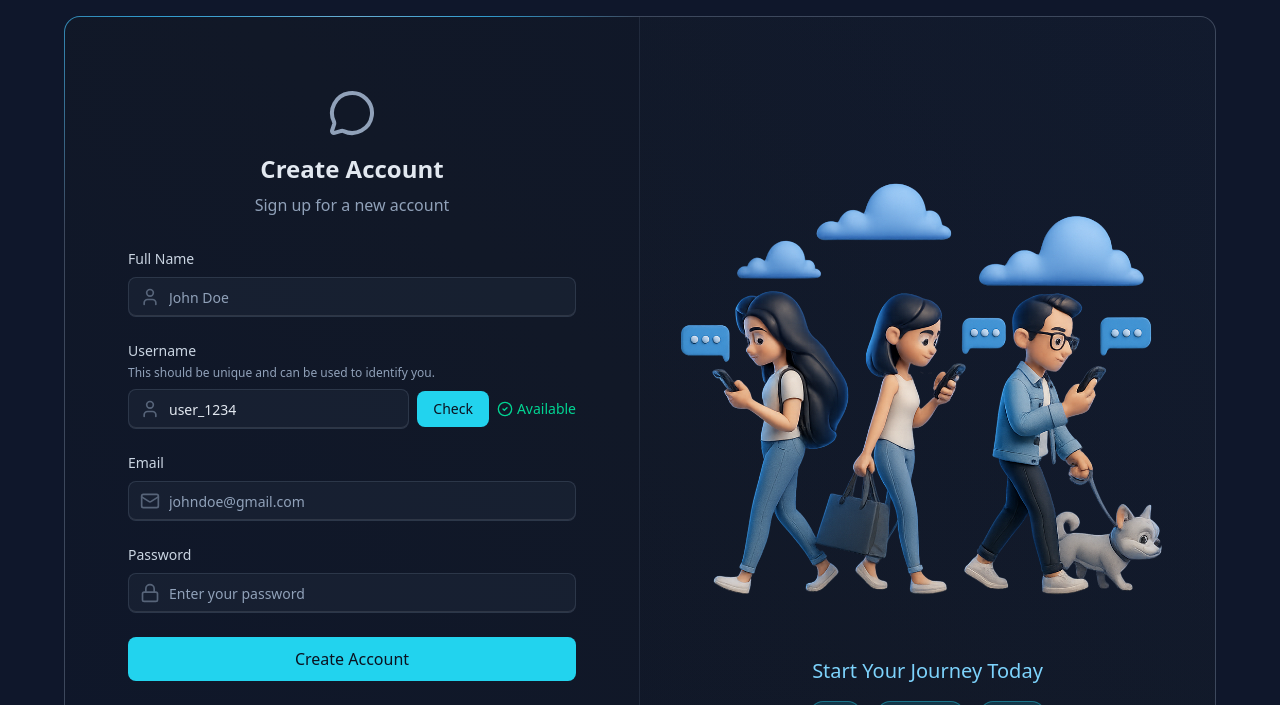
SignUpPage username check › requires re-checking after the user edits the username
Check: the text "Available" is shown, box top-left (517, 399), bottom-right (576, 419)
Clear the field with placeholder "user_1234" at (269, 409), box top-left (128, 389), bottom-right (409, 429)
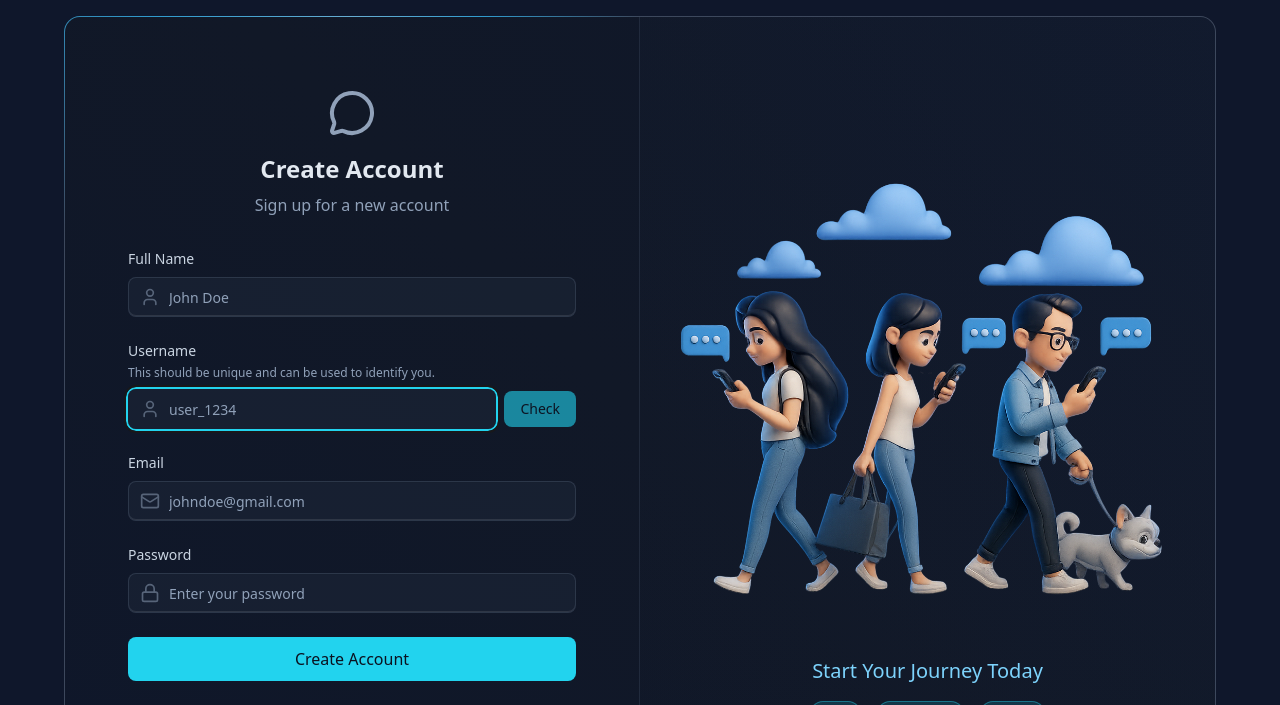
Type "custom_name" into the field with placeholder "user_1234" at (312, 409), box top-left (128, 389), bottom-right (496, 429)
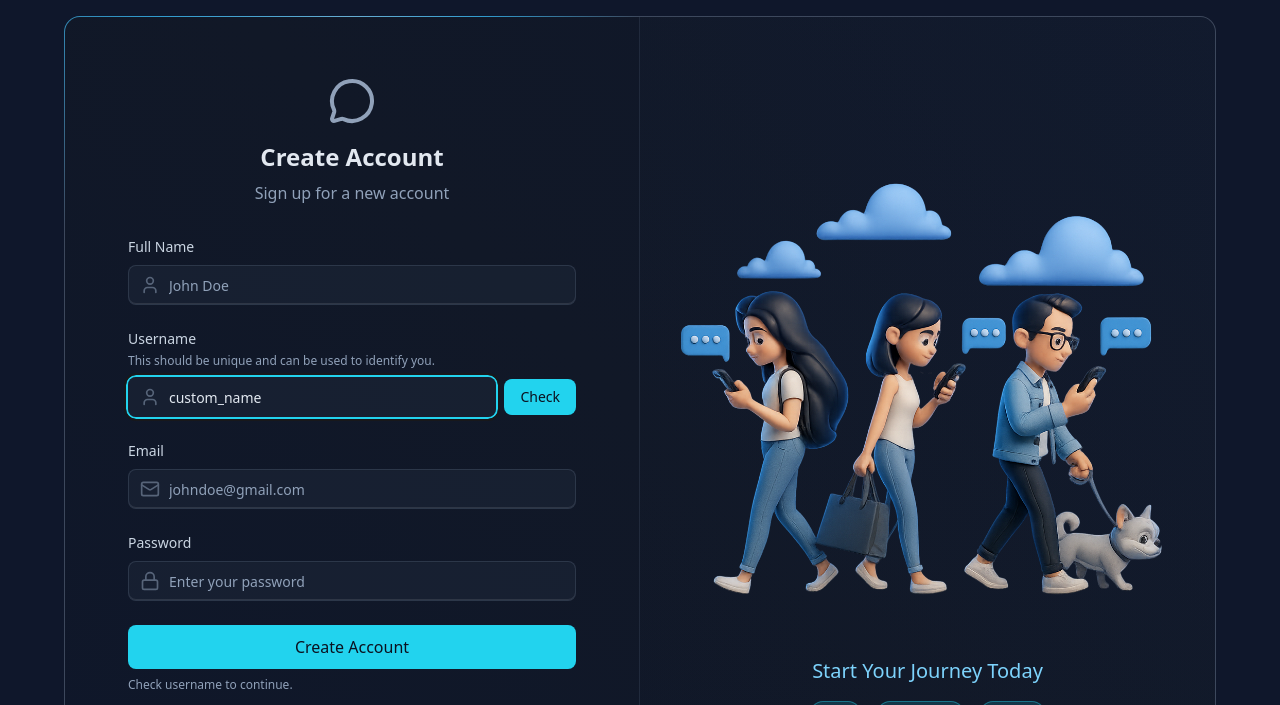
Check: the text "Available" is not shown
Check: the button "Create Account" is disabled, box top-left (128, 625), bottom-right (576, 669)
Check: the text "Check username to continue." is shown, box top-left (128, 676), bottom-right (293, 693)
